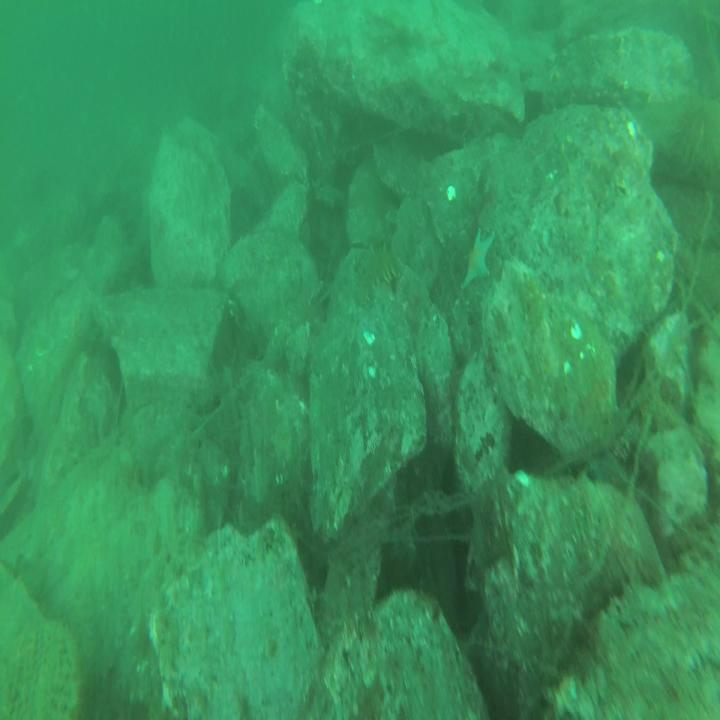holothurian: (352, 241, 396, 310)
starfish: (460, 231, 495, 289)
